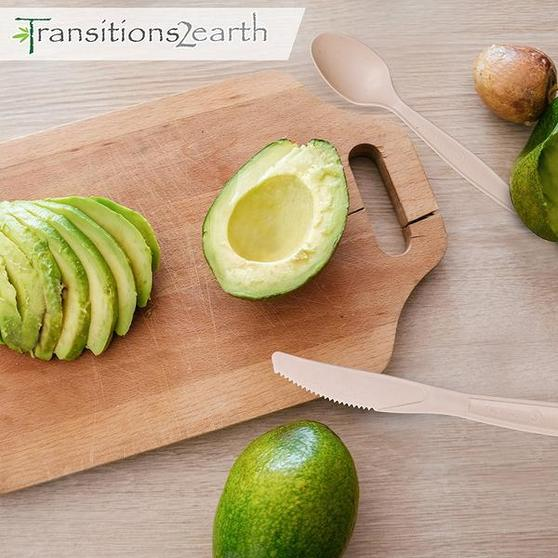avocado: (217, 420, 360, 547)
